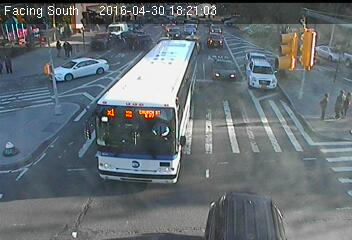neg: (85, 144, 116, 186), (42, 90, 66, 122), (130, 101, 150, 128), (236, 177, 256, 204), (160, 56, 177, 79), (205, 15, 222, 38), (215, 63, 230, 82), (254, 63, 269, 82), (41, 59, 55, 78), (145, 27, 159, 46), (97, 46, 111, 64), (331, 46, 345, 64), (270, 23, 283, 40)
pos: (312, 84, 340, 122), (328, 84, 351, 120), (337, 88, 351, 117), (49, 34, 66, 56), (60, 36, 73, 54)
